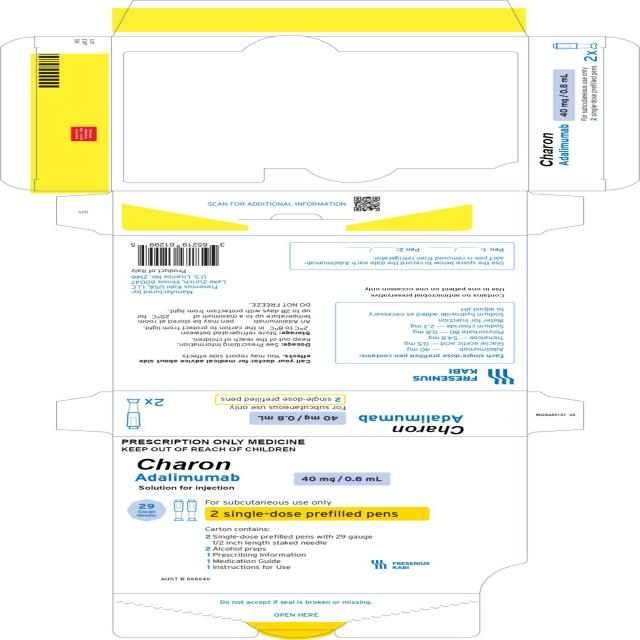Artwork: (0, 0, 640, 640)
Back_Panel: (112, 235, 526, 391)
Bottom_Part: (34, 36, 111, 191)
Extra_Areas: (112, 36, 528, 191), (112, 594, 482, 639), (114, 1, 528, 37), (606, 36, 640, 191), (0, 36, 34, 191), (528, 191, 585, 236), (56, 391, 113, 436), (56, 192, 113, 236), (527, 392, 584, 436)
Front_Panel: (113, 436, 528, 594)
Side_Panel: (113, 390, 528, 437), (113, 191, 528, 235)
Top_Panel: (528, 37, 606, 191)
